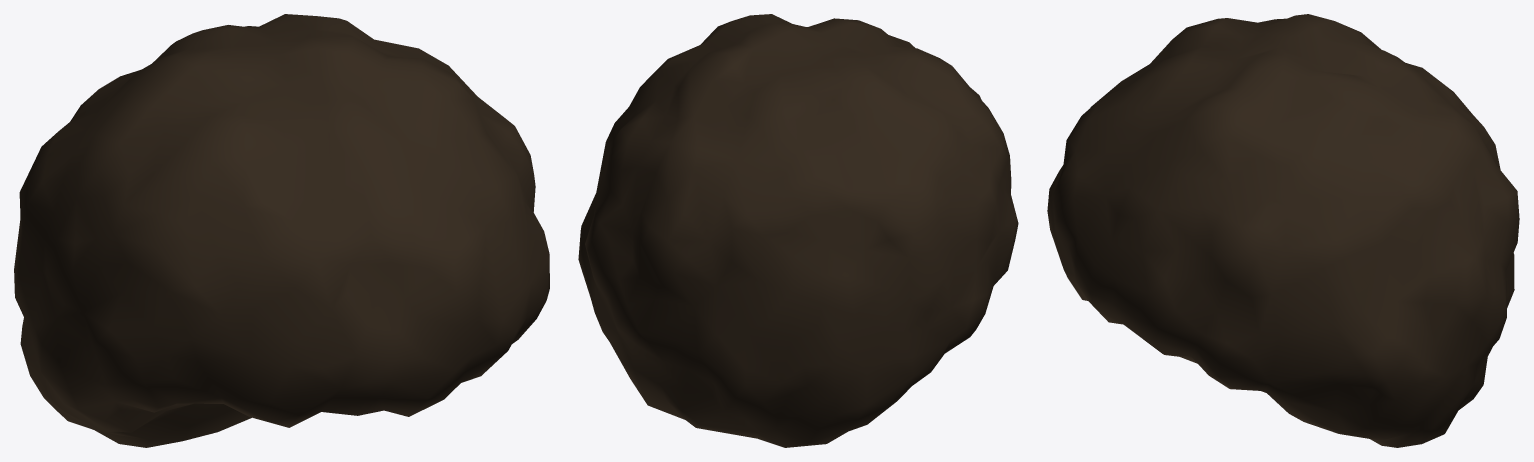
The model's file is SM_Dx_Hair_Male_02.glb.
The picture shows the model from 3 angles, left to right: view 1: azimuth 30°, elevation 25°; view 2: azimuth 150°, elevation 25°; view 3: azimuth 270°, elevation 25°; orthographic projection. The views are drawn at different scales.
Visible parts, largest first — view 1: SM_ATB_Quin_Hair_02; view 2: SM_ATB_Quin_Hair_02; view 3: SM_ATB_Quin_Hair_02.
Boxes of the visible parts, x1=… form: SM_ATB_Quin_Hair_02: x1=14, y1=14, x2=549, y2=447; SM_ATB_Quin_Hair_02: x1=578, y1=14, x2=1018, y2=447; SM_ATB_Quin_Hair_02: x1=1047, y1=14, x2=1519, y2=447.
Bounding box in the file's own units: 1.08 × 0.9928 × 1.15.
